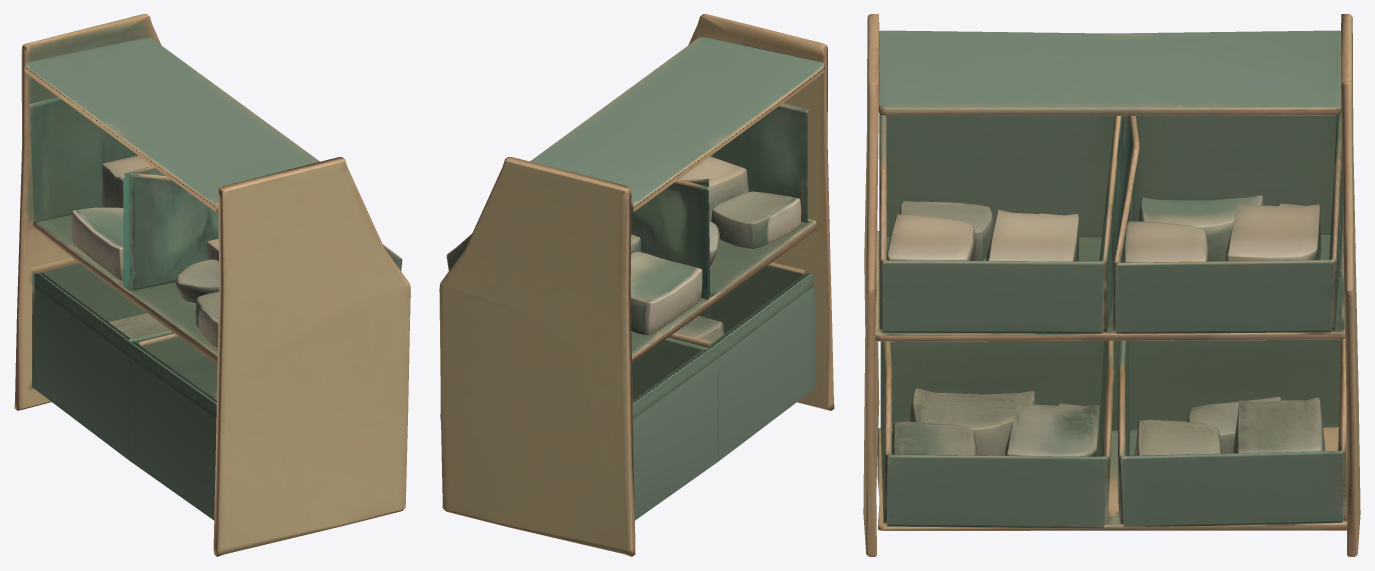
3 views of the same model, side by side, from view 1: azimuth 30°, elevation 25°; view 2: azimuth 150°, elevation 25°; view 3: azimuth 270°, elevation 25° (orthographic). The views are drawn at different scales.
Visible parts, largest first — view 1: tripo_node_4ad3baef-ff7e-4c9d-9268-aa8f04c94f33; view 2: tripo_node_4ad3baef-ff7e-4c9d-9268-aa8f04c94f33; view 3: tripo_node_4ad3baef-ff7e-4c9d-9268-aa8f04c94f33.
Boxes of the visible parts, bbox=[...] form: tripo_node_4ad3baef-ff7e-4c9d-9268-aa8f04c94f33: bbox=[14, 14, 410, 556]; tripo_node_4ad3baef-ff7e-4c9d-9268-aa8f04c94f33: bbox=[439, 14, 834, 556]; tripo_node_4ad3baef-ff7e-4c9d-9268-aa8f04c94f33: bbox=[863, 14, 1360, 556].
Size of the model in its own units: 0.5532 by 0.9761 by 0.9995.
Materials: 1 (1 with a texture image).
